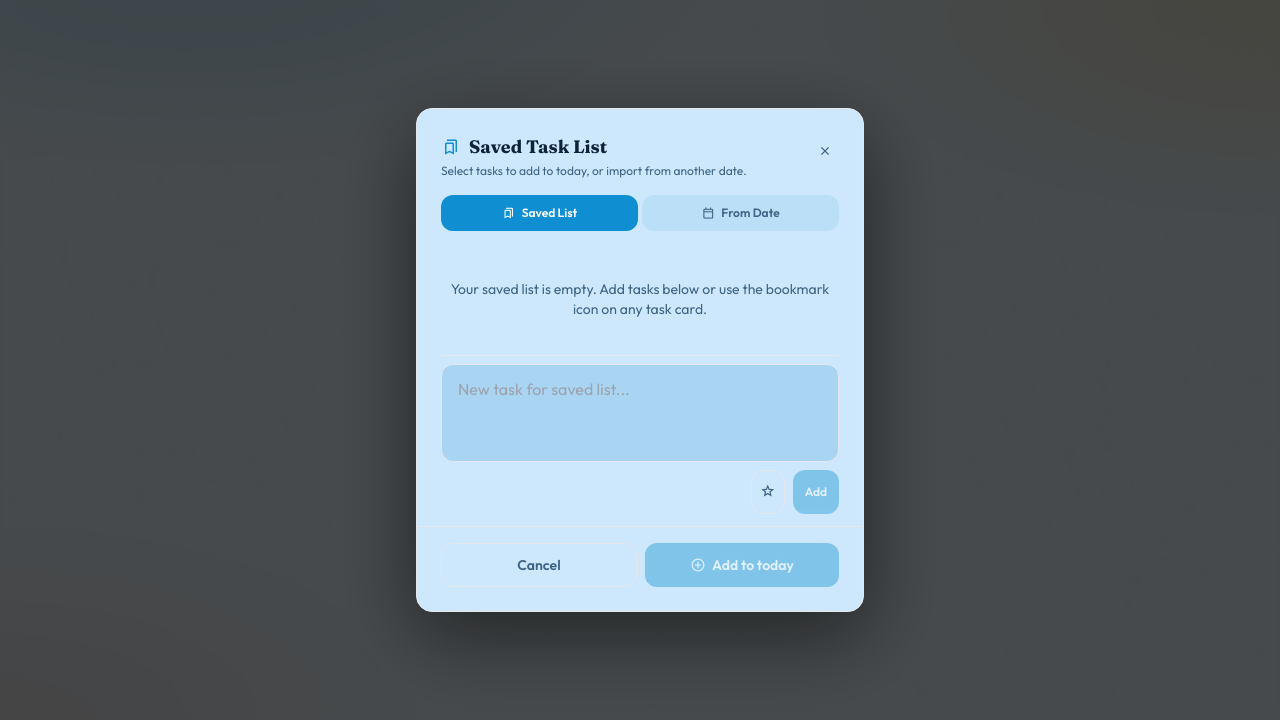
date tab › shows no-tasks message when date has no pending tasks
Click the button "From Date": point(740, 213) [642,195,839,231]
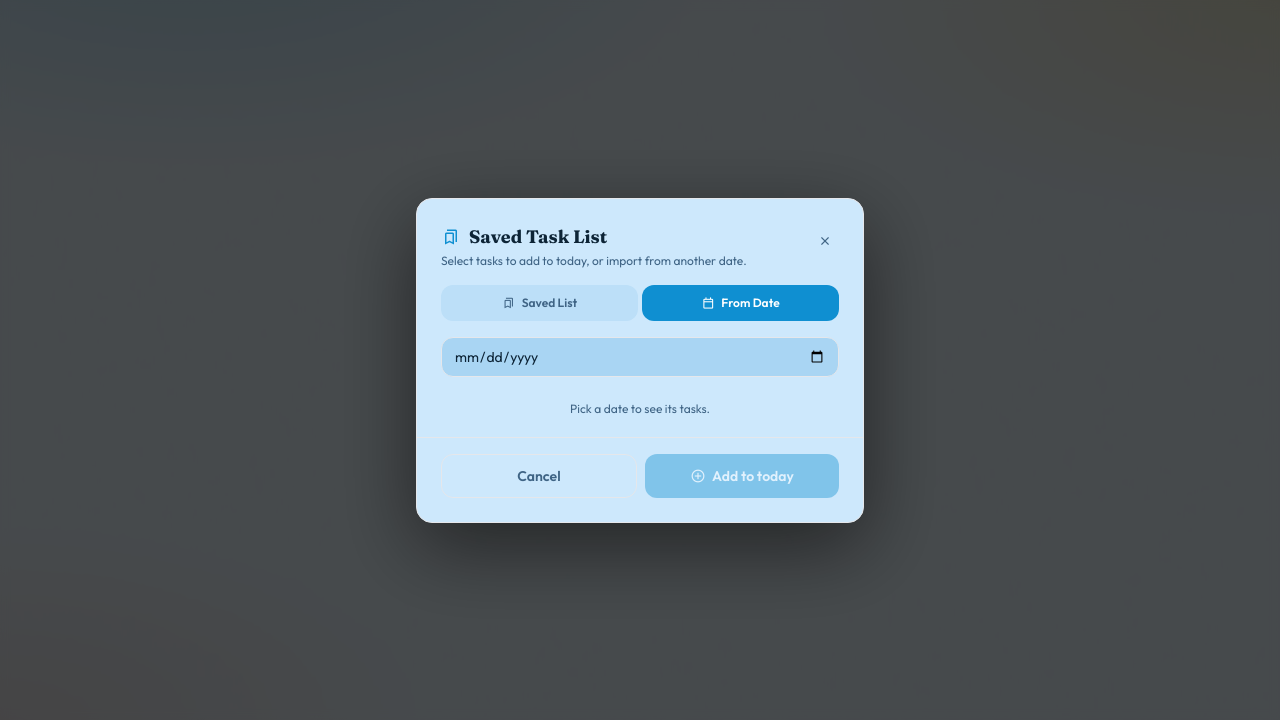
In the date field: point(640, 356) [441,336,839,376], type "2025-06-10"
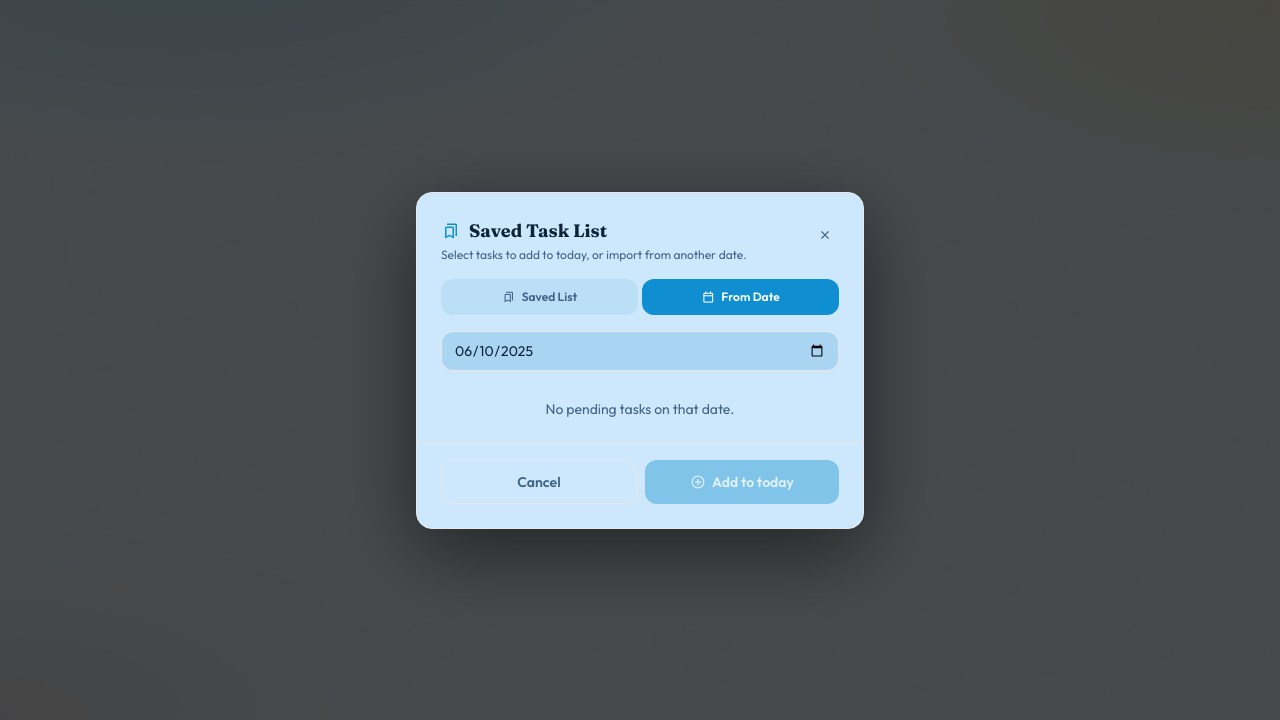
Expected: the text "No pending tasks on that date." is shown, [546,400,734,418]
